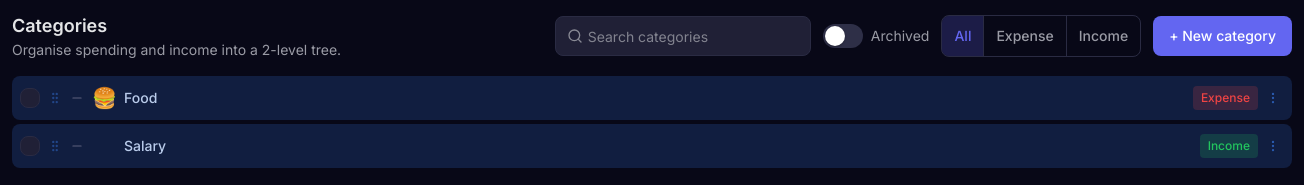
Test case: Categories page › type filter narrows to income
Note: The page filter SegmentedControl has an Income option (distinct from the modal's, which is closed).
Click the button "Income". click: point(1103, 36)
box: x1=1067 y1=16 x2=1140 y2=56
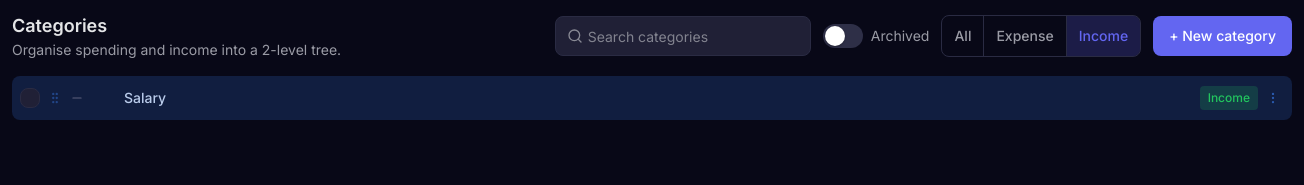
Expected: the text "Salary" is shown, x1=124 y1=89 x2=166 y2=106
Now the text "Food" is gone
